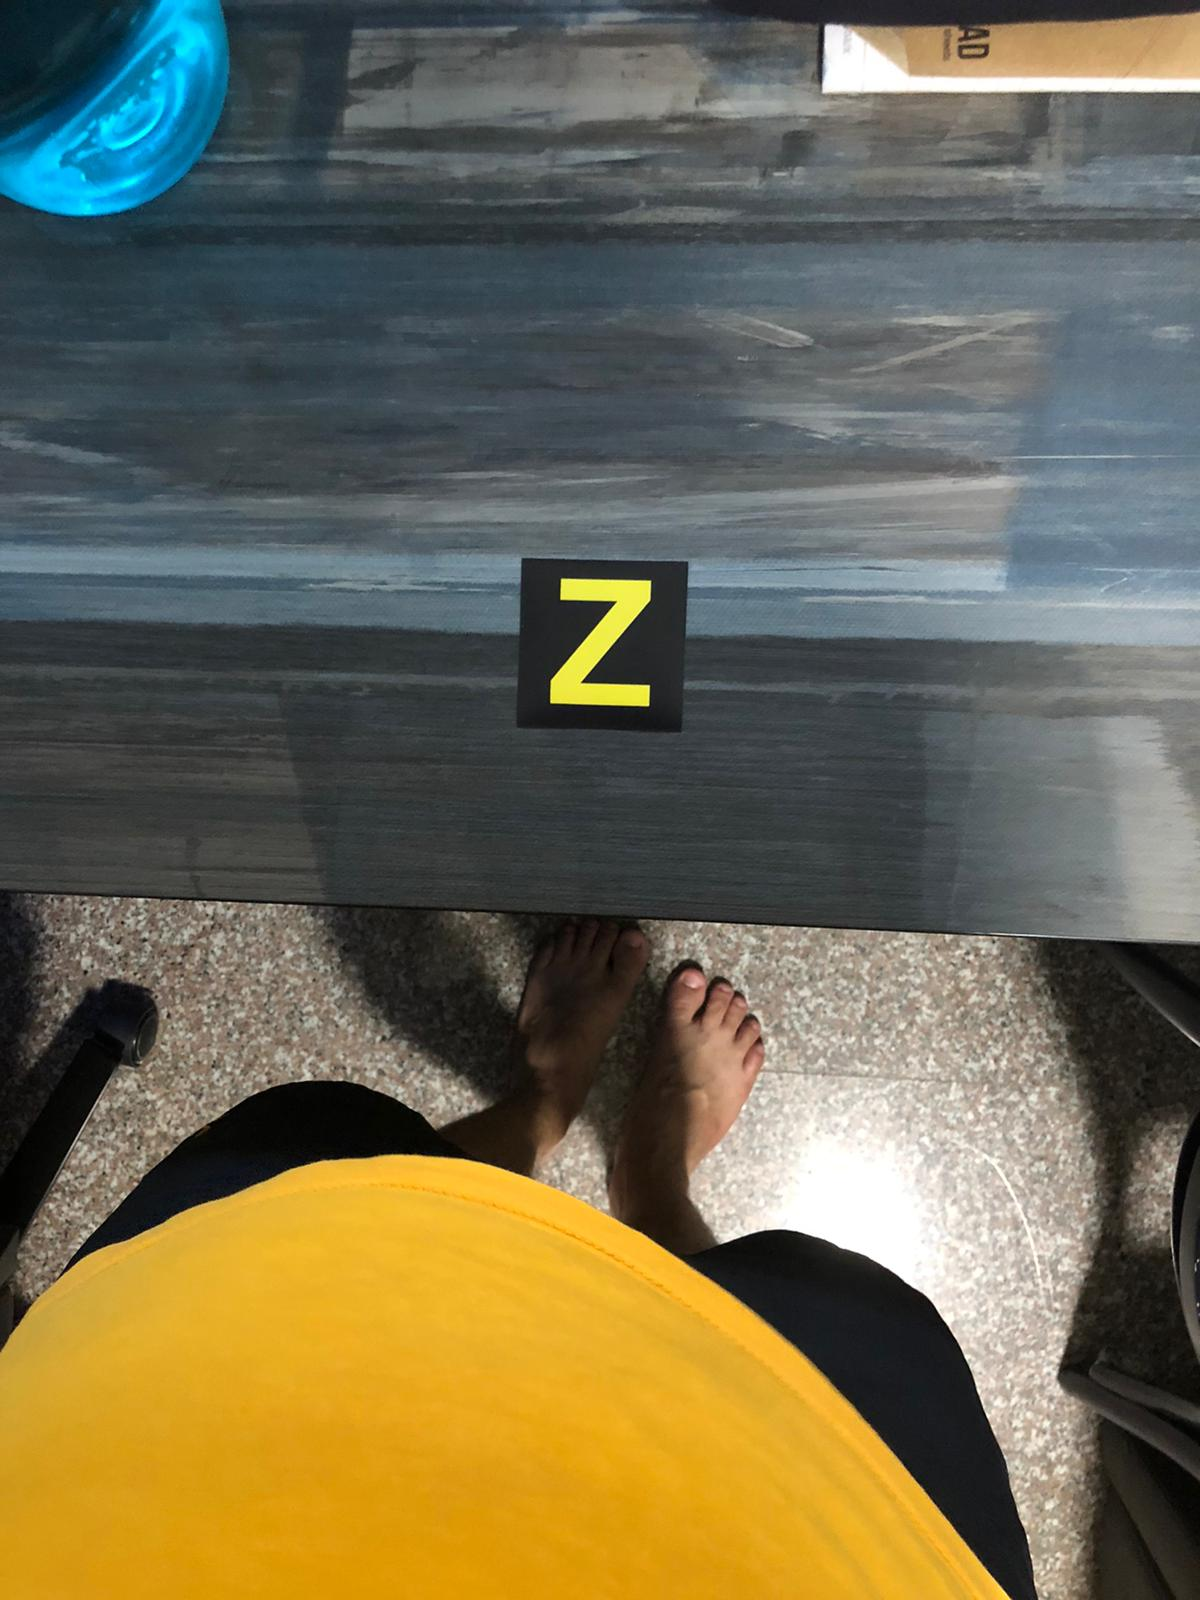Z: (522, 553, 687, 726)
